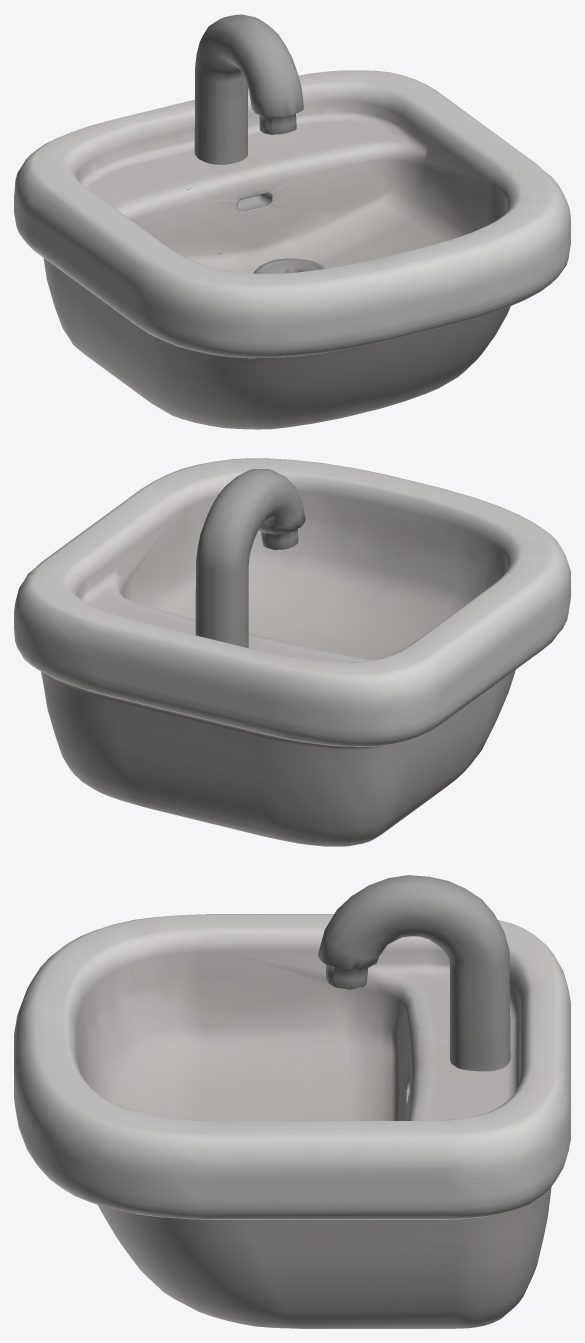
The model's file is selected.glb.
The picture shows the model from 3 angles, top to bottom: view 1: azimuth 30°, elevation 25°; view 2: azimuth 150°, elevation 25°; view 3: azimuth 270°, elevation 25°; orthographic projection. The views are drawn at different scales.
Visible parts, largest first — view 1: tripo_node_d7dee8da-23e1-4737-b9de-a12450ca2ba9; view 2: tripo_node_d7dee8da-23e1-4737-b9de-a12450ca2ba9; view 3: tripo_node_d7dee8da-23e1-4737-b9de-a12450ca2ba9.
Boxes of the visible parts, box(x1,y1,x2,y2) form: tripo_node_d7dee8da-23e1-4737-b9de-a12450ca2ba9: box(14, 14, 570, 429); tripo_node_d7dee8da-23e1-4737-b9de-a12450ca2ba9: box(14, 458, 570, 846); tripo_node_d7dee8da-23e1-4737-b9de-a12450ca2ba9: box(14, 875, 570, 1328).
Bounding box in the file's own units: 0.998 × 0.7285 × 0.9902.
1 material, 1 textured.
